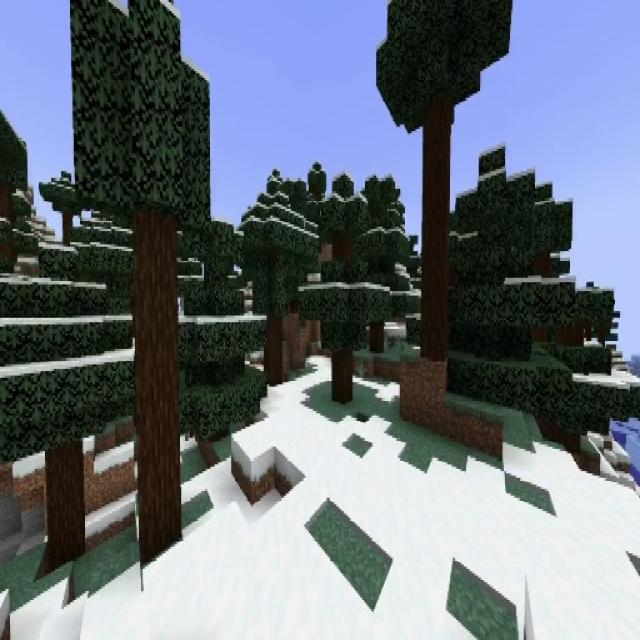spruce: (69, 0, 214, 567), (379, 0, 509, 360), (0, 245, 130, 574), (302, 165, 386, 413), (175, 222, 260, 444), (238, 178, 316, 394), (350, 173, 412, 350)
spruce_log: (132, 220, 180, 556), (424, 98, 446, 371), (44, 448, 85, 563), (333, 354, 356, 406), (267, 318, 284, 382), (369, 322, 386, 361), (62, 210, 72, 244)
